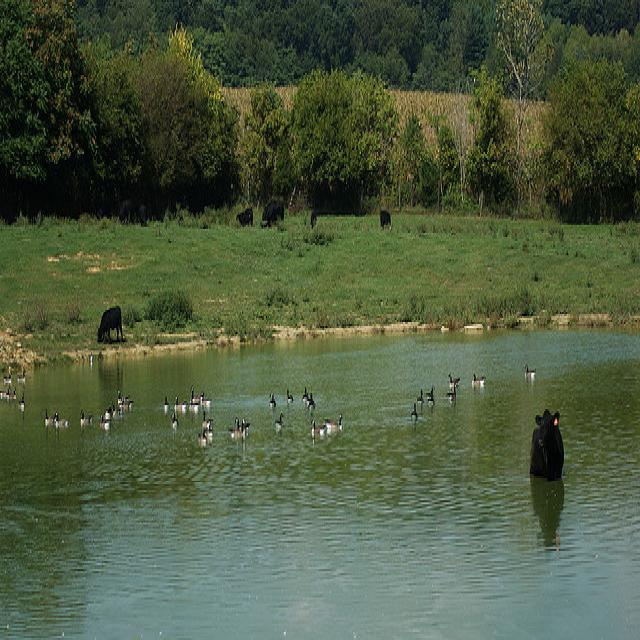cow: (527, 407, 562, 478), (95, 302, 123, 338), (261, 194, 283, 227), (234, 204, 252, 225), (378, 204, 391, 229), (137, 200, 147, 223), (309, 206, 317, 227)
